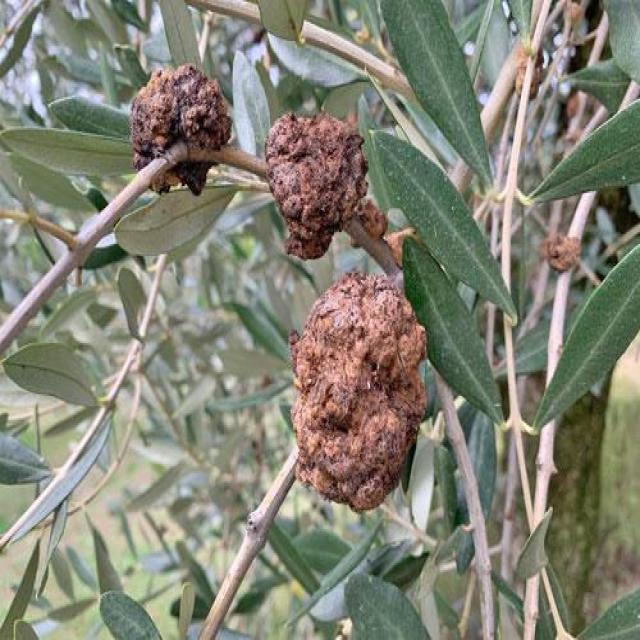Tuberculosis: (291, 271, 425, 510), (264, 111, 391, 264), (131, 65, 230, 195), (540, 232, 579, 271)
